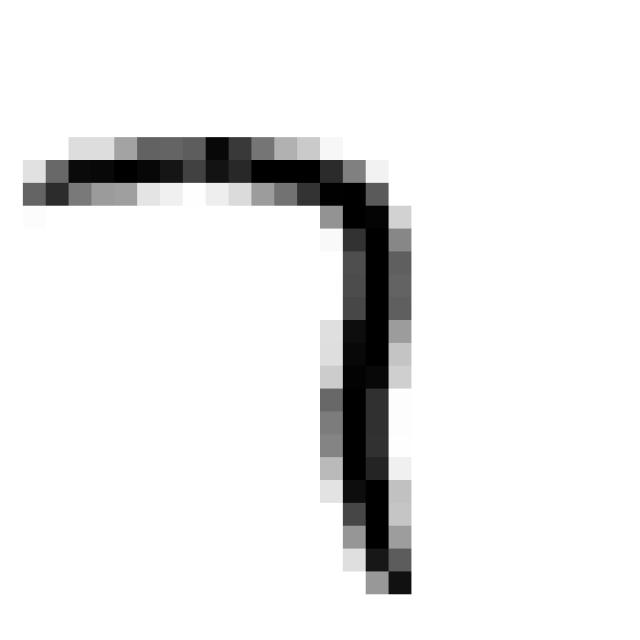6 -six-: (9, 121, 431, 617)
